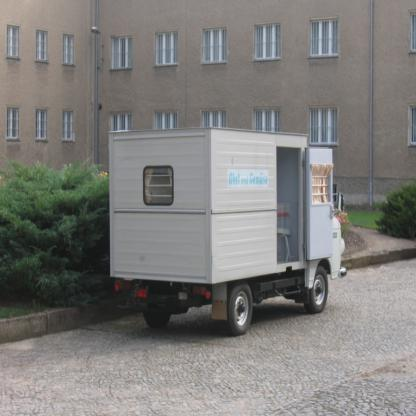truck: (106, 124, 343, 336)
